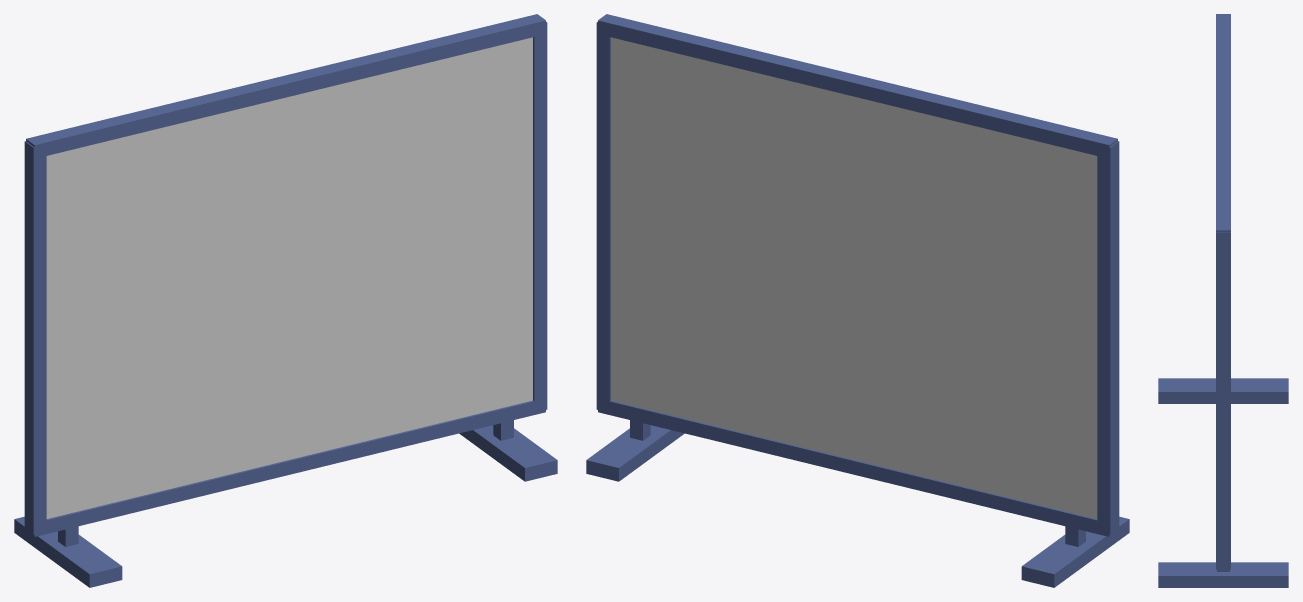
Rendered from white_screen.glb.
3 views of the same model, side by side, from view 1: azimuth 30°, elevation 25°; view 2: azimuth 150°, elevation 25°; view 3: azimuth 270°, elevation 25° (orthographic). The views are drawn at different scales.
Visible parts, largest first — view 1: screen_face, screen_frame0, screen_frame2, screen_frame1, screen_frame3, screen_foot0, screen_foot1; view 2: screen_face, screen_frame0, screen_frame2, screen_frame1, screen_frame3, screen_foot0, screen_foot1; view 3: screen_frame3, screen_frame0, screen_foot1, screen_foot0.
Part boxes in pixels (<box>): screen_face: <box>46,37,532,518</box>; screen_frame0: <box>26,14,545,158</box>; screen_frame2: <box>24,141,46,534</box>; screen_frame1: <box>26,398,545,536</box>; screen_frame3: <box>533,22,547,410</box>; screen_foot0: <box>14,516,122,587</box>; screen_foot1: <box>459,425,557,481</box>; screen_face: <box>611,37,1097,518</box>; screen_frame0: <box>598,14,1117,158</box>; screen_frame2: <box>1097,141,1119,534</box>; screen_frame1: <box>598,398,1117,536</box>; screen_frame3: <box>596,22,610,412</box>; screen_foot0: <box>1021,516,1129,587</box>; screen_foot1: <box>586,425,684,481</box>; screen_frame3: <box>1216,232,1230,567</box>; screen_frame0: <box>1216,14,1230,232</box>; screen_foot1: <box>1158,562,1288,587</box>; screen_foot0: <box>1158,378,1288,403</box>.
Size of the model in its own units: 0.472 by 0.372 by 0.12.
